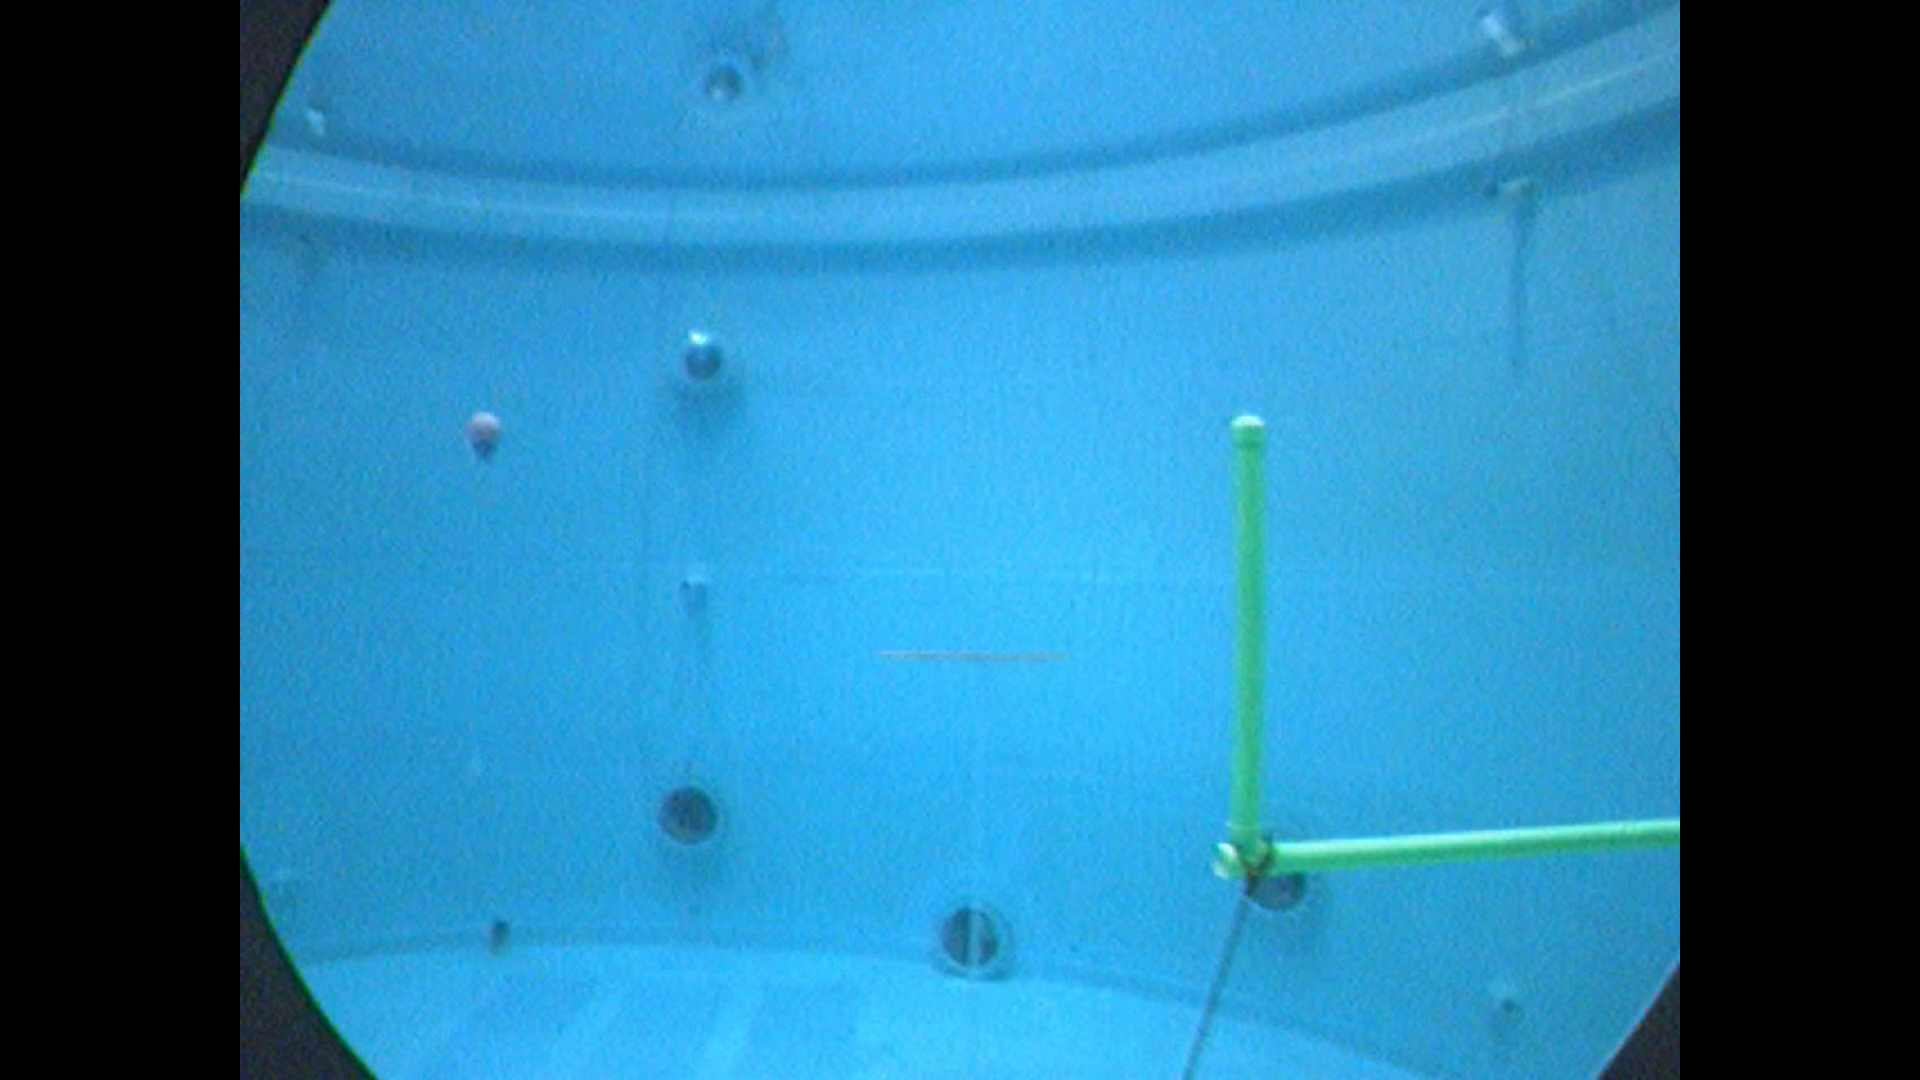gate: (1201, 405, 1683, 876)
